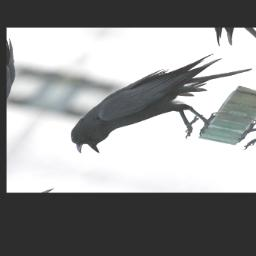Crow: (56, 39, 256, 172)
